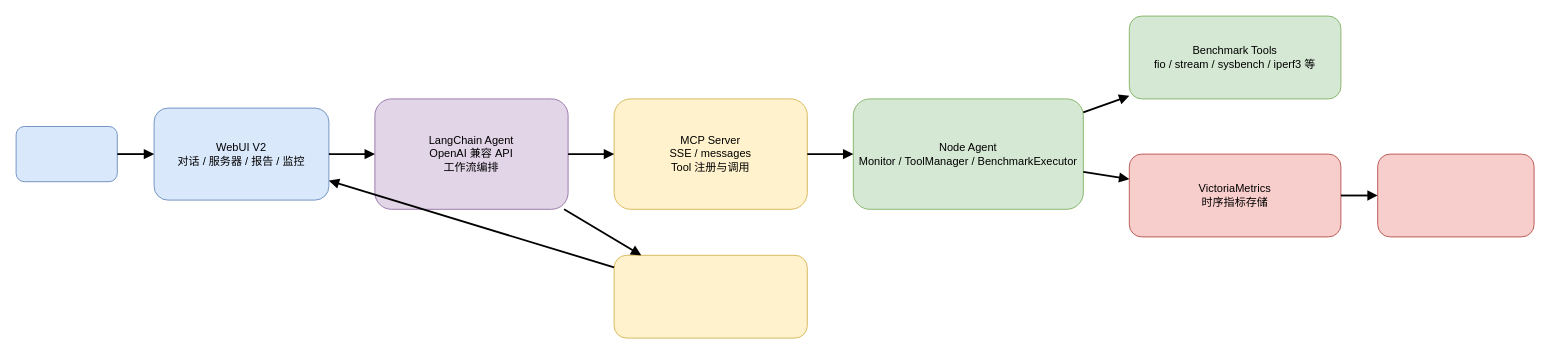
The diagram is 1550 pixels wide and 354 high, and some of its shapes have lost their labels. The shapes that lost their labels are listed below. From the top down, each one's centre as x and y in pixels, then its label:
At [66,154]: "用户浏览器".
At [1455,195]: "Grafana 监控可视化".
At [710,296]: "ReportStore 工作流报告归档".
